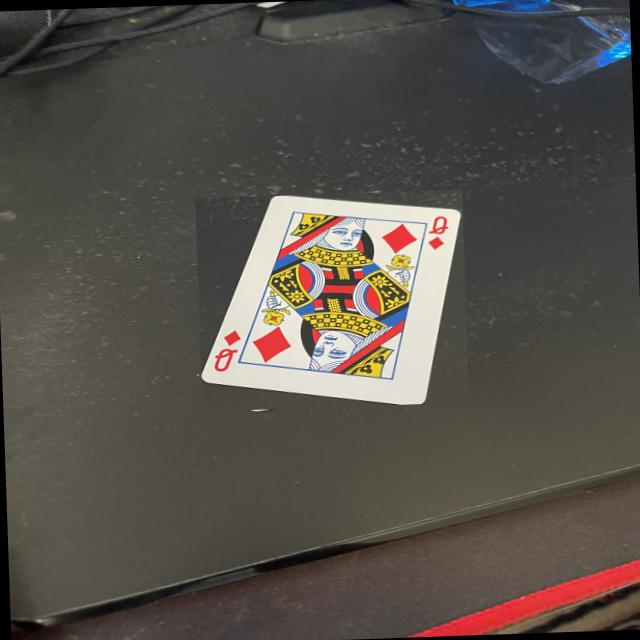Queen of diamonds: (202, 196, 462, 404)
